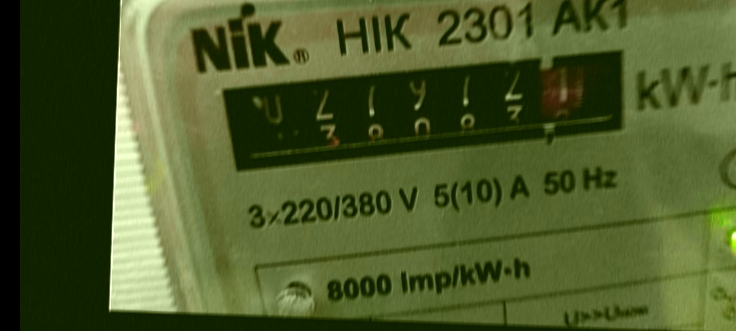0: (258, 89, 287, 126)
1: (552, 63, 575, 106)
2: (307, 82, 337, 122), (498, 65, 527, 103)
7: (450, 68, 478, 110), (357, 80, 381, 118)
9: (404, 75, 432, 111)
screen: (202, 26, 659, 196)
